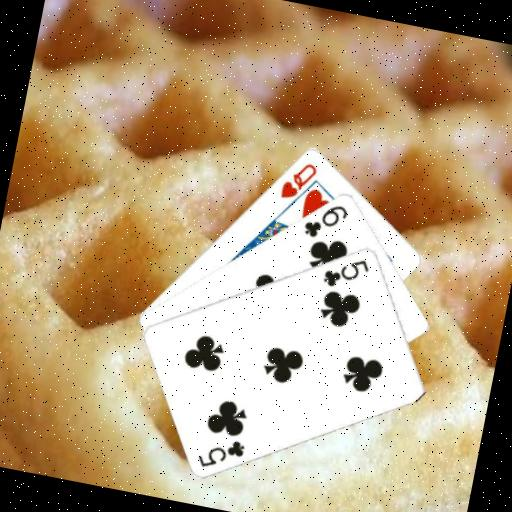5C: (194, 430, 249, 476), (319, 249, 373, 295)
6C: (299, 195, 351, 245)
QH: (276, 155, 320, 205)
